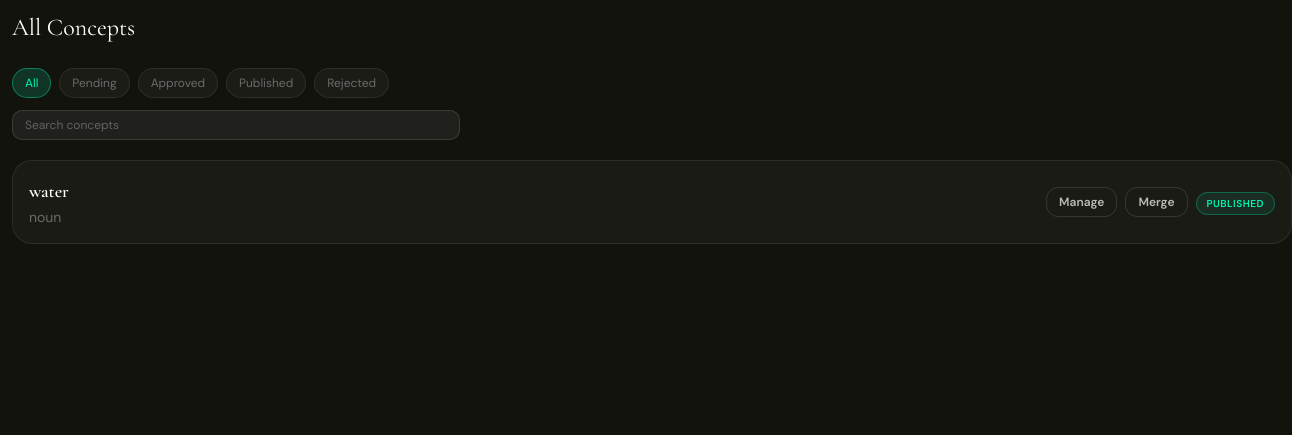
Test: Expanding published concepts › admin can expand a published concept by clicking its row
Click the text "water". click: (49, 191)
box: x1=29 y1=177 x2=69 y2=205
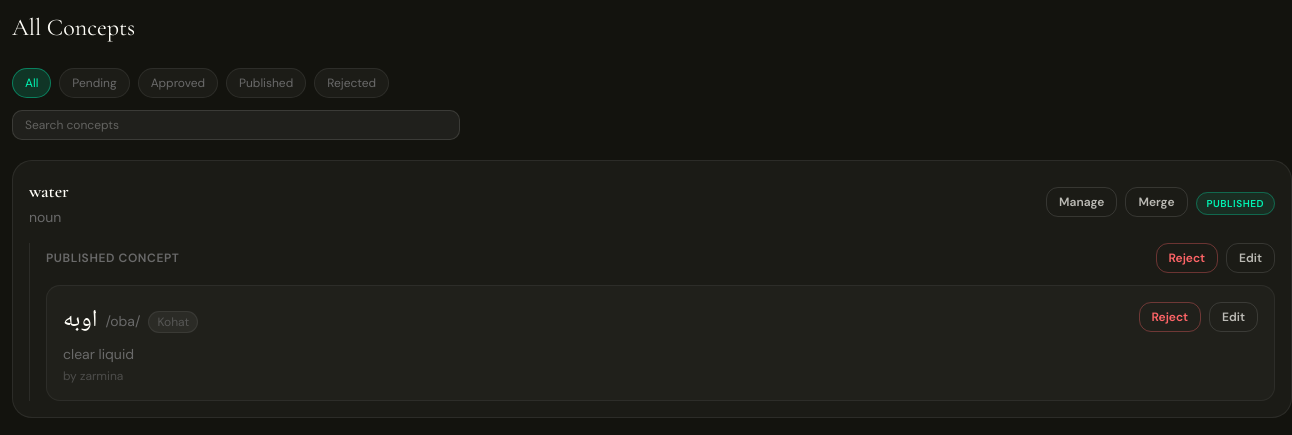
Check: the text "اوبه" is shown, box x1=63 y1=302 x2=97 y2=340
Check: the text "Kohat" is shown, box x1=148 y1=311 x2=198 y2=333
Check: the text "clear liquid" is shown, box x1=63 y1=345 x2=134 y2=363
